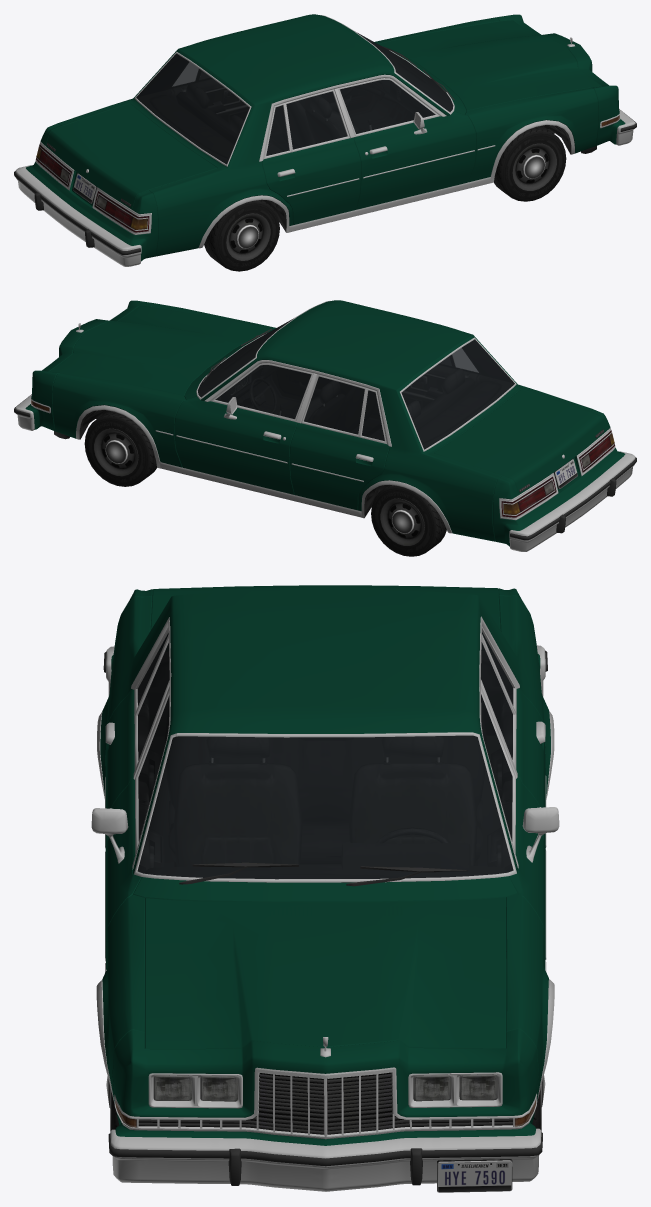
The model's file is sedan.glb.
The picture shows the model from 3 angles, top to bottom: view 1: azimuth 30°, elevation 25°; view 2: azimuth 150°, elevation 25°; view 3: azimuth 270°, elevation 25°; orthographic projection. The views are drawn at different scales.
Visible parts, largest first — view 1: Negotiator80_Hood_Negotiator80_Bodymat_0, Negotiator80_Glass_back_UCB_Lights_and_Glass_Transperent_0, Negotiator80_suspension_UCB_BOTTOM_0, Negotiator80_Interior_UCB_Interiors_2_0, Negotiator80_WheelStock_FL_RB1c_Tire_1k_0, Negotiator80_Headlights_UCB_Lights_and_Glass_0, Negotiator80_Numberplate_rear_Numberplates_Misk_U_0; view 2: Negotiator80_Hood_Negotiator80_Bodymat_0, Negotiator80_Glass_back_UCB_Lights_and_Glass_Transperent_0, Negotiator80_suspension_UCB_BOTTOM_0, Negotiator80_Interior_UCB_Interiors_2_0, Negotiator80_WheelStock_FL_RB1c_Tire_1k_0, Negotiator80_Headlights_UCB_Lights_and_Glass_0, Negotiator80_Numberplate_rear_Numberplates_Misk_U_0; view 3: Negotiator80_Hood_Negotiator80_Bodymat_0, Negotiator80_Glass_back_UCB_Lights_and_Glass_Transperent_0, Negotiator80_Interior_UCB_Interiors_2_0, Negotiator80_suspension_UCB_BOTTOM_0, Negotiator80_Headlights_UCB_Lights_and_Glass_0, Negotiator80_Numberplate_rear_Numberplates_Misk_U_0.
Boxes of the visible parts, x1=… form: Negotiator80_Hood_Negotiator80_Bodymat_0: x1=26, y1=14, x2=625, y2=261; Negotiator80_Glass_back_UCB_Lights_and_Glass_Transperent_0: x1=36, y1=32, x2=619, y2=229; Negotiator80_suspension_UCB_BOTTOM_0: x1=14, y1=15, x2=636, y2=266; Negotiator80_Interior_UCB_Interiors_2_0: x1=136, y1=45, x2=452, y2=163; Negotiator80_WheelStock_FL_RB1c_Tire_1k_0: x1=204, y1=125, x2=566, y2=271; Negotiator80_Headlights_UCB_Lights_and_Glass_0: x1=37, y1=117, x2=617, y2=229; Negotiator80_Numberplate_rear_Numberplates_Misk_U_0: x1=73, y1=173, x2=96, y2=203; Negotiator80_Hood_Negotiator80_Bodymat_0: x1=25, y1=300, x2=625, y2=546; Negotiator80_Glass_back_UCB_Lights_and_Glass_Transperent_0: x1=31, y1=318, x2=614, y2=514; Negotiator80_suspension_UCB_BOTTOM_0: x1=14, y1=301, x2=636, y2=551; Negotiator80_Interior_UCB_Interiors_2_0: x1=198, y1=331, x2=514, y2=448; Negotiator80_WheelStock_FL_RB1c_Tire_1k_0: x1=84, y1=410, x2=446, y2=556; Negotiator80_Headlights_UCB_Lights_and_Glass_0: x1=33, y1=402, x2=613, y2=514; Negotiator80_Numberplate_rear_Numberplates_Misk_U_0: x1=555, y1=459, x2=577, y2=489; Negotiator80_Hood_Negotiator80_Bodymat_0: x1=100, y1=585, x2=550, y2=1145; Negotiator80_Glass_back_UCB_Lights_and_Glass_Transperent_0: x1=115, y1=632, x2=535, y2=1127; Negotiator80_Interior_UCB_Interiors_2_0: x1=137, y1=652, x2=513, y2=882; Negotiator80_suspension_UCB_BOTTOM_0: x1=91, y1=616, x2=559, y2=1191; Negotiator80_Headlights_UCB_Lights_and_Glass_0: x1=122, y1=1075, x2=529, y2=1125; Negotiator80_Numberplate_rear_Numberplates_Misk_U_0: x1=437, y1=1160, x2=512, y2=1192.
Bounding box in the file's own units: 5.15 × 1.45 × 1.95.
Materials: 8 (7 with a texture image).
